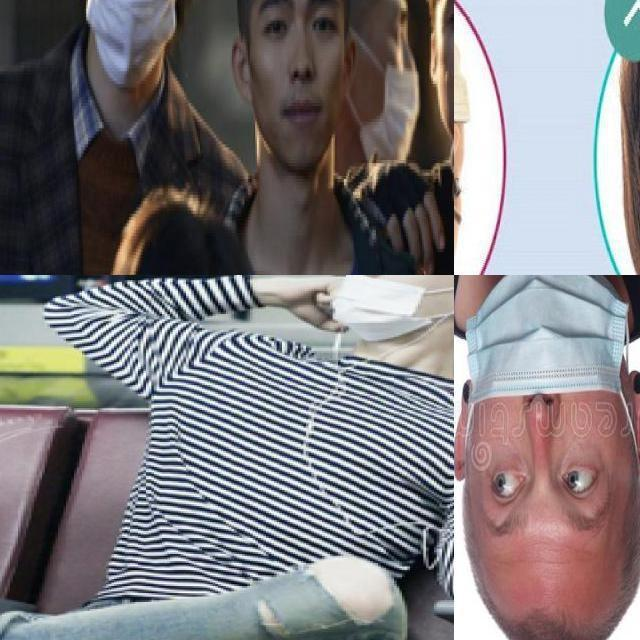hairnet: (475, 300, 615, 442)
